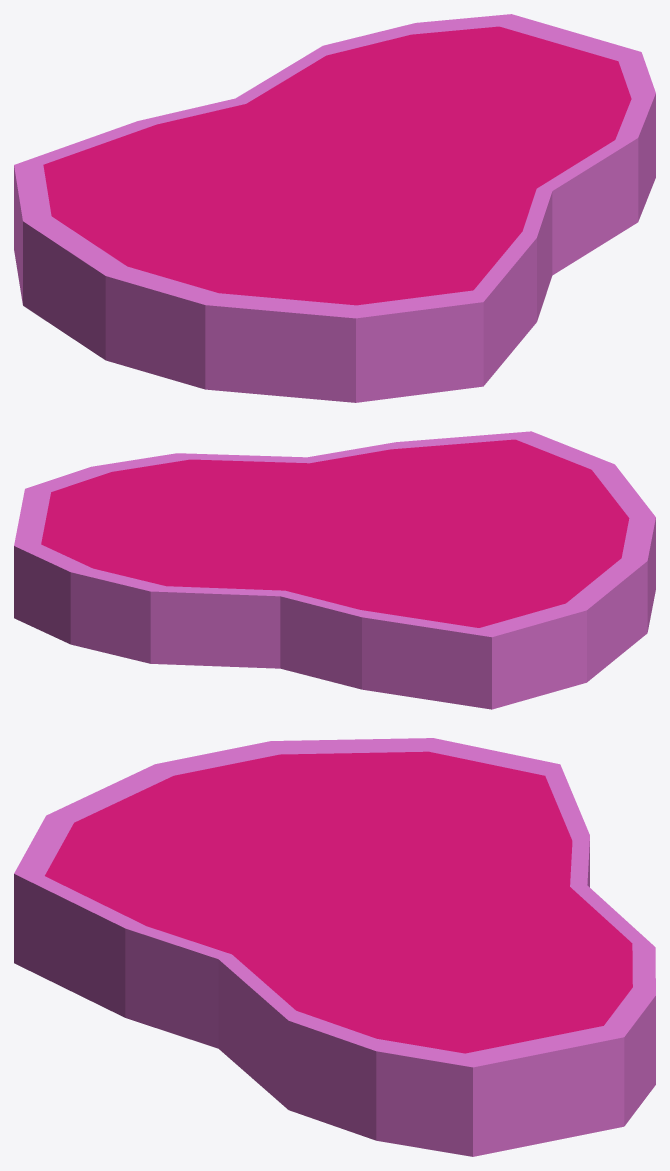
File: GravityMeat.fbx
3 views of the same model, one above another, from view 1: azimuth 30°, elevation 25°; view 2: azimuth 150°, elevation 25°; view 3: azimuth 270°, elevation 25° (orthographic). The views are drawn at different scales.
Visible parts, largest first — view 1: GravityMeat; view 2: GravityMeat; view 3: GravityMeat.
Part boxes in pixels (x1=…): GravityMeat: x1=14, y1=14, x2=655, y2=402; GravityMeat: x1=14, y1=431, x2=655, y2=709; GravityMeat: x1=14, y1=738, x2=655, y2=1156.
Size of the model in its own units: 44.61 by 36.74 by 5.65.
